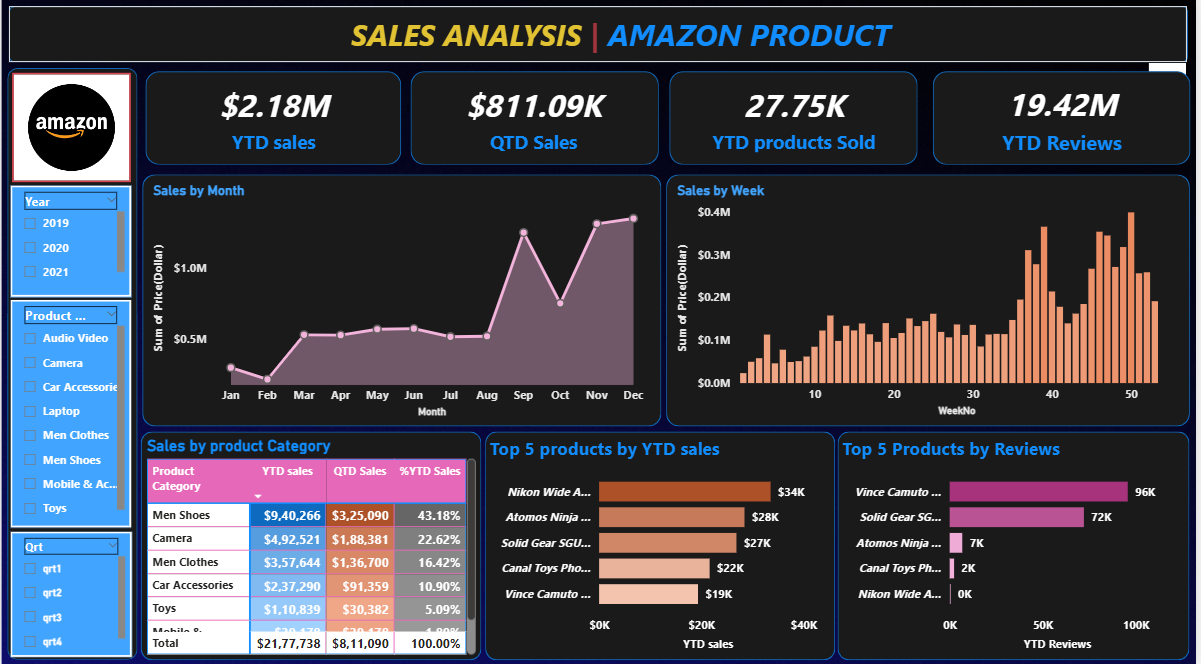

This screenshot's page, from the dashboard's own definition file:
{"tool":"powerbi","page":{"name":"Page 1","canvas":[1280,720],"ordinal":0},"visuals":[{"type":"shape","box":[6,79,139.4,634],"z":0},{"type":"shape","box":[8,12,1263,60],"z":1000},{"type":"textbox","box":[351.8,16,623.6,52.7],"z":2000},{"type":"shape","box":[155,82,274,100.3],"z":3000},{"type":"shape","box":[438,82,266,100.3],"z":4000},{"type":"shape","box":[716,82,266,100.3],"z":5000},{"type":"shape","box":[998.2,82,276,100.3],"z":6000},{"type":"card","fields":{"Values":["Amazon_Data.Total YTD"]},"box":[166,89,251,86],"z":7000},{"type":"card","fields":{"Values":["Amazon_Data.TotalQtd"]},"box":[448.9,89,243.2,85],"z":8000},{"type":"card","fields":{"Values":["Amazon_Data.Totalproductsales"]},"box":[727.8,89,243.2,85],"z":9000},{"type":"card","fields":{"Values":["Amazon_Data.TotalReviwes"]},"box":[1008.4,89,256,85],"z":10000},{"type":"shape","box":[151,192,556,270],"z":11000},{"type":"shape","box":[712,192,561,270],"z":12000},{"type":"areaChart","title":"Sales by Month","fields":{"Category":["DateTable.Month"],"Y":["Sum(Amazon_Data.Price(Dollar))"]},"box":[159,200,540,256],"z":13000},{"type":"shape","box":[149,468,365,245],"z":14000},{"type":"clusteredColumnChart","title":"Sales by  Week","fields":{"Y":["Sum(Amazon_Data.Price(Dollar))"],"Category":["DateTable.WeekNo"]},"box":[720,200,546,255],"z":15000},{"type":"pivotTable","title":"Sales by product Category","fields":{"Rows":["Amazon_Data.Product Category"],"Values":["Amazon_Data.YTD sales","Amazon_Data.QTD Sales","Divide(Amazon_Data.Total YTD, ScopedEval(Amazon_Data.Total YTD, []))"]},"box":[152,472,362,239],"z":16000},{"type":"shape","box":[518,468,375,245],"z":17000},{"type":"shape","box":[897,468,377,245],"z":18000},{"type":"clusteredBarChart","title":"Top 5 products by YTD sales ","fields":{"Category":["Amazon_Data.Product Description"],"Y":["Amazon_Data.YTD sales"]},"box":[518.7,472.8,375.8,234.7],"z":19000},{"type":"clusteredBarChart","title":"Top 5 Products by Reviews","fields":{"Category":["Amazon_Data.Product Description"],"Y":["Amazon_Data.YTD Reviews"]},"box":[897,472.8,371,234.7],"z":20000},{"type":"slicer","fields":{"Values":["Amazon_Data.Product Category"]},"box":[11,327,129,244],"z":21000},{"type":"slicer","fields":{"Values":["DateTable.Qrt"]},"box":[10,575,130,134],"z":22000},{"type":"image","box":[12,83,127,117],"z":23000},{"type":"slicer","fields":{"Values":["DateTable.Date.Variation.Date Hierarchy.Year"]},"box":[11,204,129,119],"z":24000}]}

Visuals, with their boxes in screenshot pixels (x1, y1, x2, y2), scaled from the page's 1280x720 canvas onto the 1201x664 screenshot:
shape: 6:73:136:658
shape: 8:11:1193:66
textbox: 330:15:915:63
shape: 145:76:403:168
shape: 411:76:661:168
shape: 672:76:921:168
shape: 937:76:1196:168
card - Amazon_Data.Total YTD: 156:82:391:161
card - Amazon_Data.TotalQtd: 421:82:649:160
card - Amazon_Data.Totalproductsales: 683:82:911:160
card - Amazon_Data.TotalReviwes: 946:82:1186:160
shape: 142:177:663:426
shape: 668:177:1194:426
"Sales by Month" areaChart: 149:184:656:421
shape: 140:432:482:658
"Sales by  Week" clusteredColumnChart: 676:184:1188:420
"Sales by product Category" pivotTable: 143:435:482:656
shape: 486:432:838:658
shape: 842:432:1195:658
"Top 5 products by YTD sales " clusteredBarChart: 487:436:839:652
"Top 5 Products by Reviews" clusteredBarChart: 842:436:1190:652
slicer - Amazon_Data.Product Category: 10:302:131:527
slicer - DateTable.Qrt: 9:530:131:654
image: 11:77:130:184
slicer - DateTable.Date.Variation.Date Hierarchy.Year: 10:188:131:298
